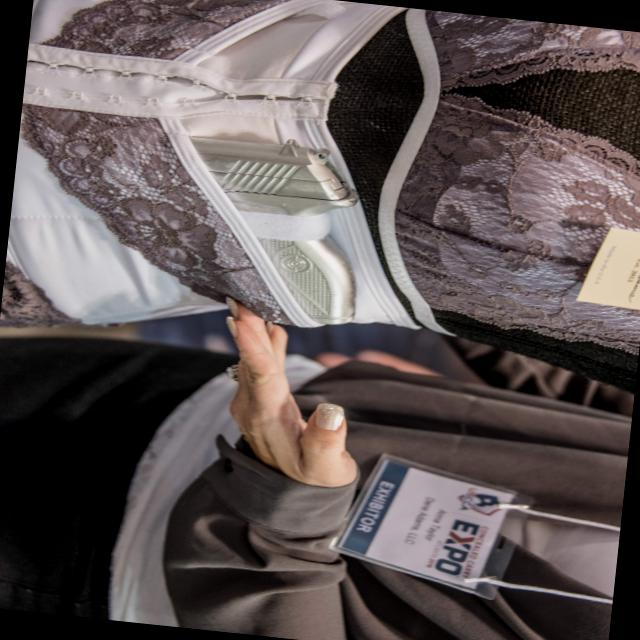handgun: (49, 111, 412, 336)
